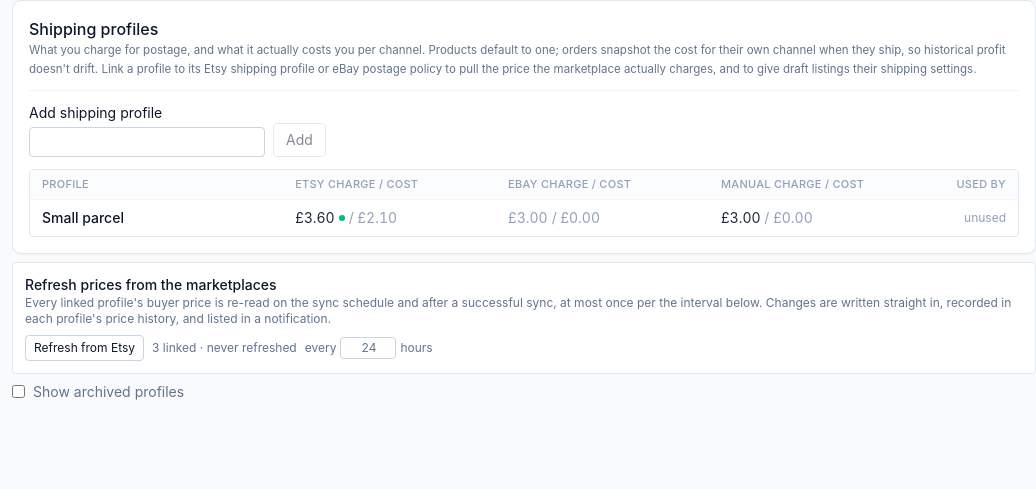
runs the refresh now and reports what moved, what was skipped and what is missing
Click the button "Refresh from Etsy": (84, 348) [25,335,144,361]
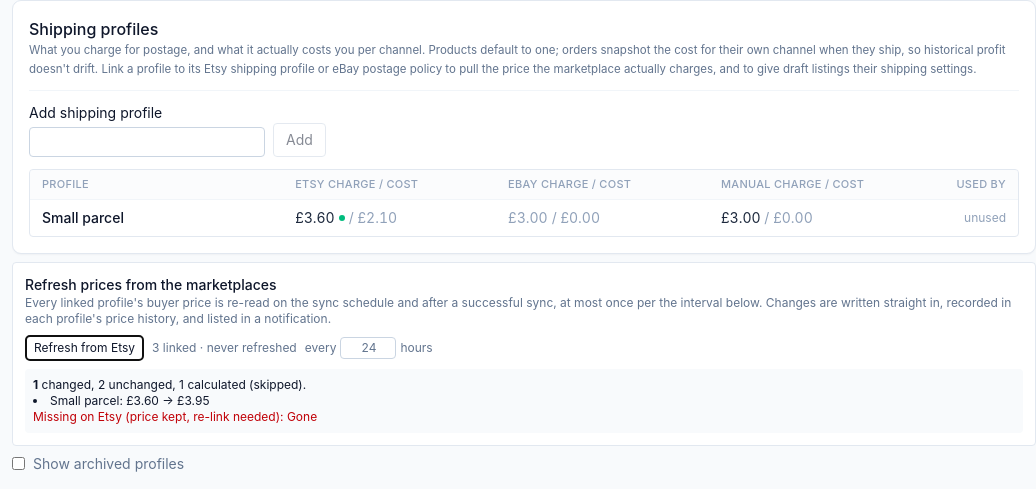
Check: the text "1 changed, 2 unchanged, 1 calculated (skipped)." is shown, box [33,377,306,392]
Check: the list item "Small parcel: £3.60 → £3.95" is shown, box [50,393,210,408]
Check: the text "Missing on Etsy (price kept, re-link needed): Gone" is shown, box [33,409,317,424]
